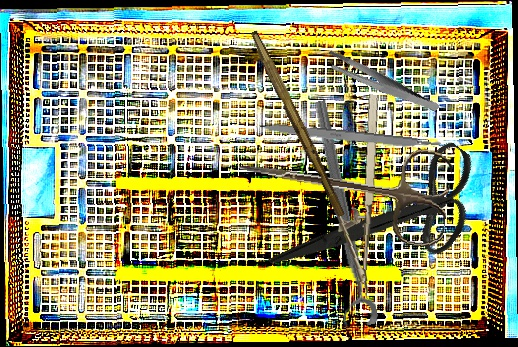Dressing Forceps: (322, 28, 441, 138)
Fixation Ring: (295, 98, 380, 331)
Iris Scissors: (267, 95, 501, 343), (231, 123, 455, 250)
Needle Holder: (318, 91, 385, 298)
Scalpel Handle: (244, 29, 350, 219), (256, 121, 444, 153)
